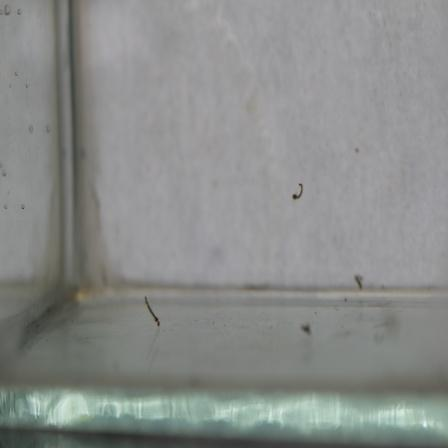Jentik-Nyamuk: (142, 292, 163, 329), (288, 179, 309, 205)
